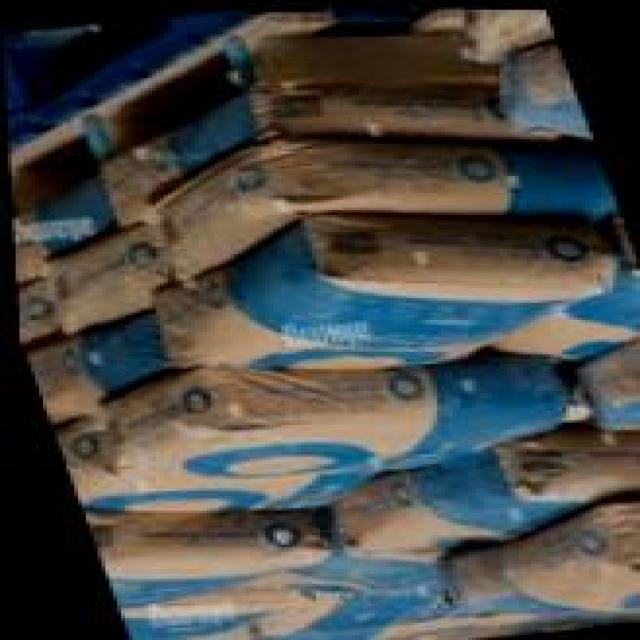gunny_bag: (141, 212, 608, 375), (141, 131, 603, 274), (85, 79, 504, 220), (84, 356, 551, 475), (331, 434, 640, 561), (50, 423, 356, 514), (429, 495, 640, 614), (79, 512, 302, 607), (506, 219, 640, 363), (30, 225, 166, 330), (573, 336, 640, 428), (73, 318, 151, 396)
